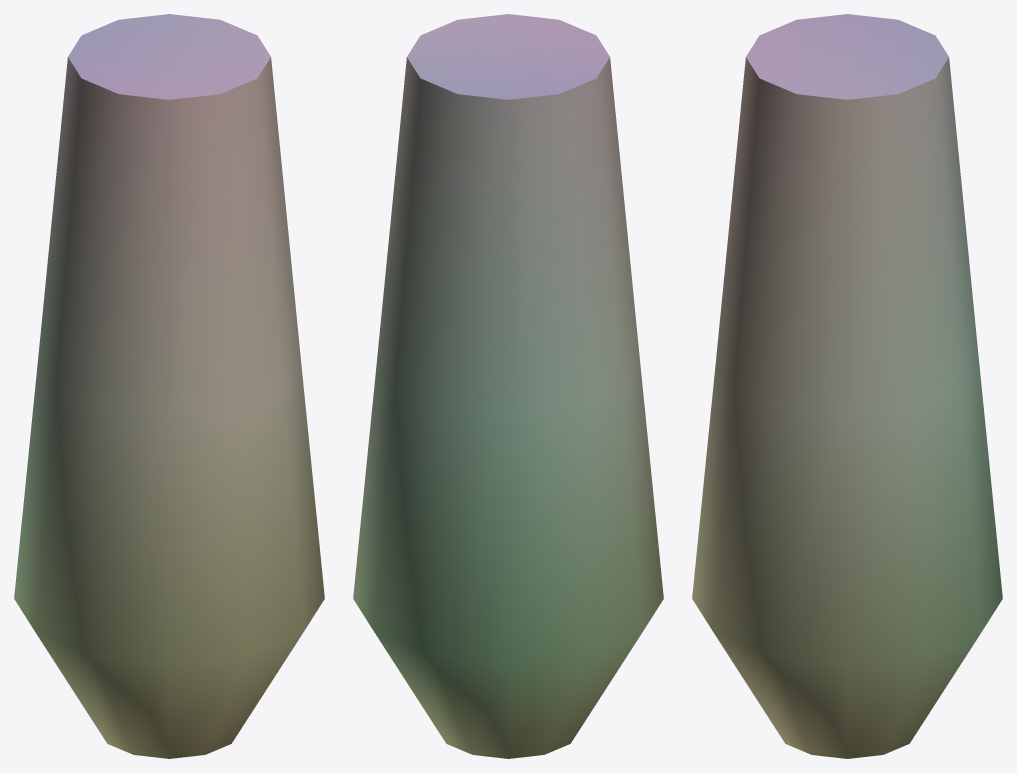
File: penitent_arm.glb
The picture shows the model from 3 angles, left to right: view 1: azimuth 30°, elevation 25°; view 2: azimuth 150°, elevation 25°; view 3: azimuth 270°, elevation 25°; orthographic projection.
Parts seen in each view (by area): view 1: pen_arm; view 2: pen_arm; view 3: pen_arm.
Boxes of the visible parts, box(x1,y1,x2,y2) form: pen_arm: box(14, 14, 324, 758); pen_arm: box(353, 14, 663, 758); pen_arm: box(692, 14, 1002, 758).
Size of the model in its own units: 0.26 by 0.62 by 0.26.
